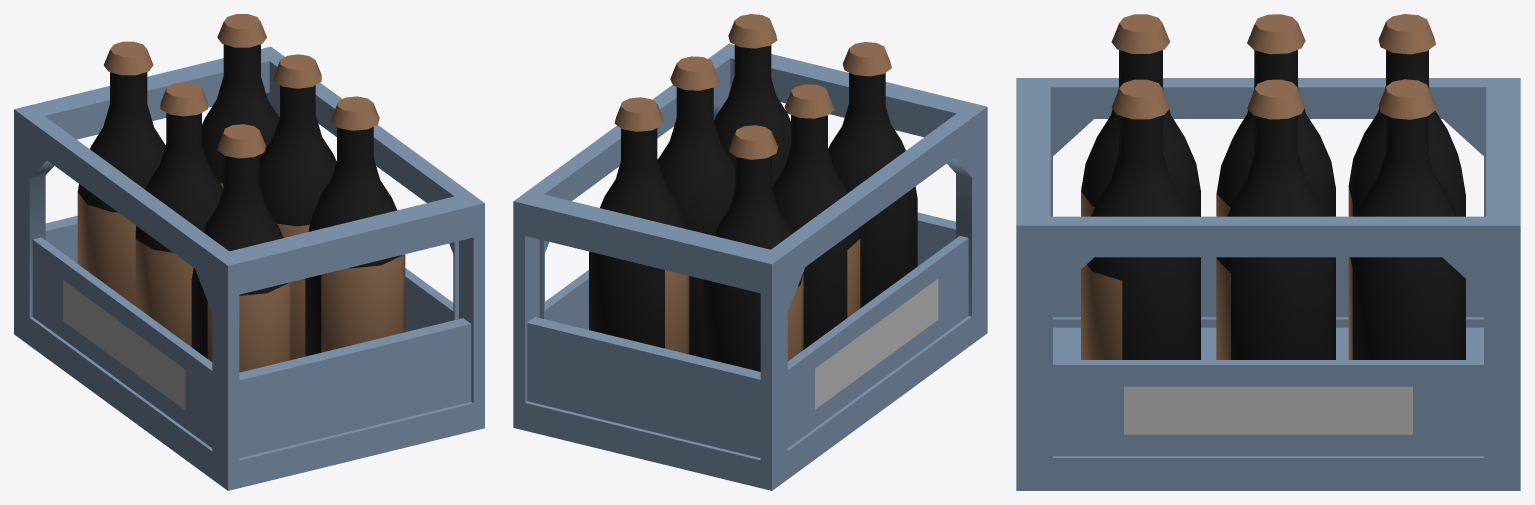
The model's file is bottles.glb.
3 views of the same model, side by side, from view 1: azimuth 30°, elevation 25°; view 2: azimuth 150°, elevation 25°; view 3: azimuth 270°, elevation 25° (orthographic). The views are drawn at different scales.
Parts seen in each view (by area): view 1: Environment_Bottles; view 2: Environment_Bottles; view 3: Environment_Bottles.
Boxes of the visible parts, left/top/right/bottom form: Environment_Bottles: left=14, top=14, right=484, bottom=490; Environment_Bottles: left=513, top=14, right=987, bottom=490; Environment_Bottles: left=1016, top=14, right=1520, bottom=490.
Bounding box in the file's own units: 0.9031 × 1.02 × 1.3.
